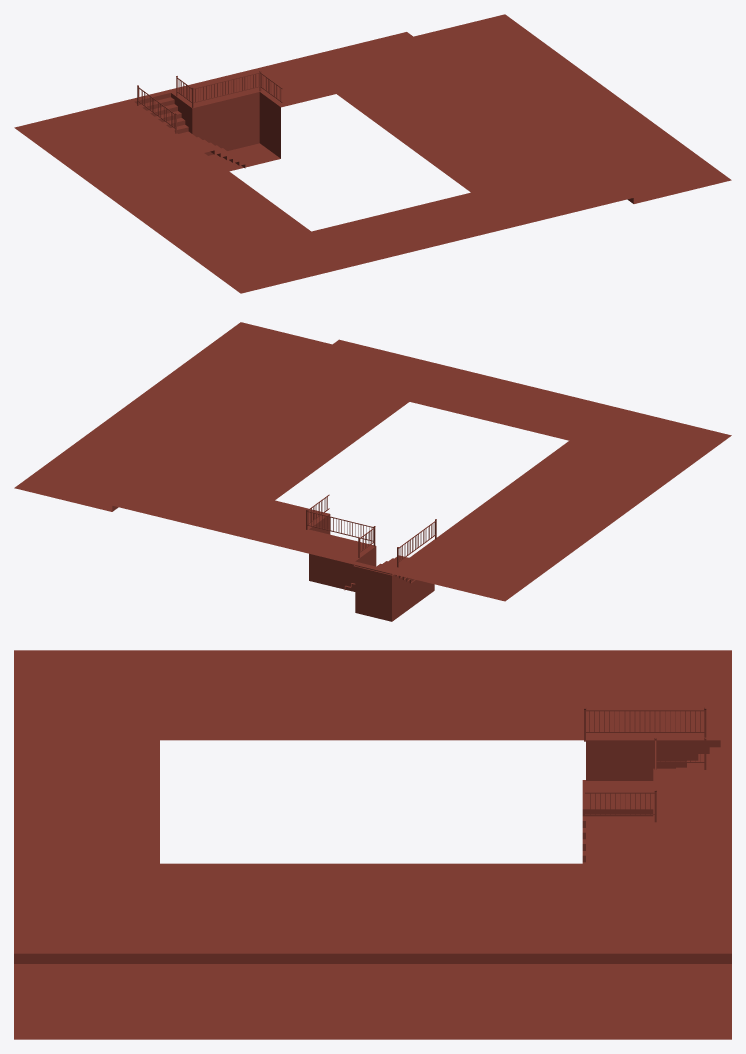
The model's file is StairsTest.fbx.
3 views of the same model, one above another, from view 1: azimuth 30°, elevation 25°; view 2: azimuth 150°, elevation 25°; view 3: azimuth 270°, elevation 25° (orthographic). The views are drawn at different scales.
Parts seen in each view (by area): view 1: Ground.001; view 2: Ground.001; view 3: Ground.001.
Boxes of the visible parts, left/top/right/bottom form: Ground.001: left=14, top=14, right=731, bottom=293; Ground.001: left=14, top=322, right=731, bottom=621; Ground.001: left=14, top=650, right=731, bottom=1039.
Size of the model in its own units: 2000 by 278 by 1600.
